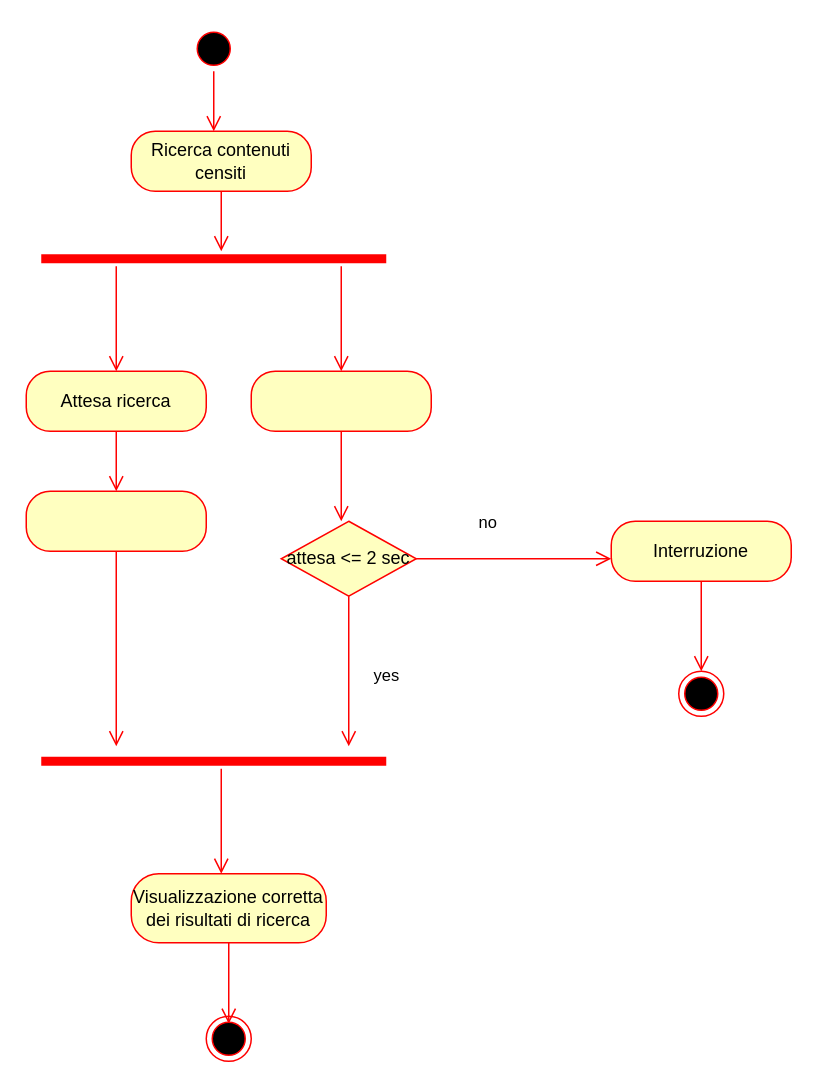
This 818x1088 diagram has some shape labels left out. The centre of each missing label's shape, as x and y in pixels:
"Miglioramento richieste funzione" goes at [340,400].
"Visualizzazione risultati" goes at [115,520].
